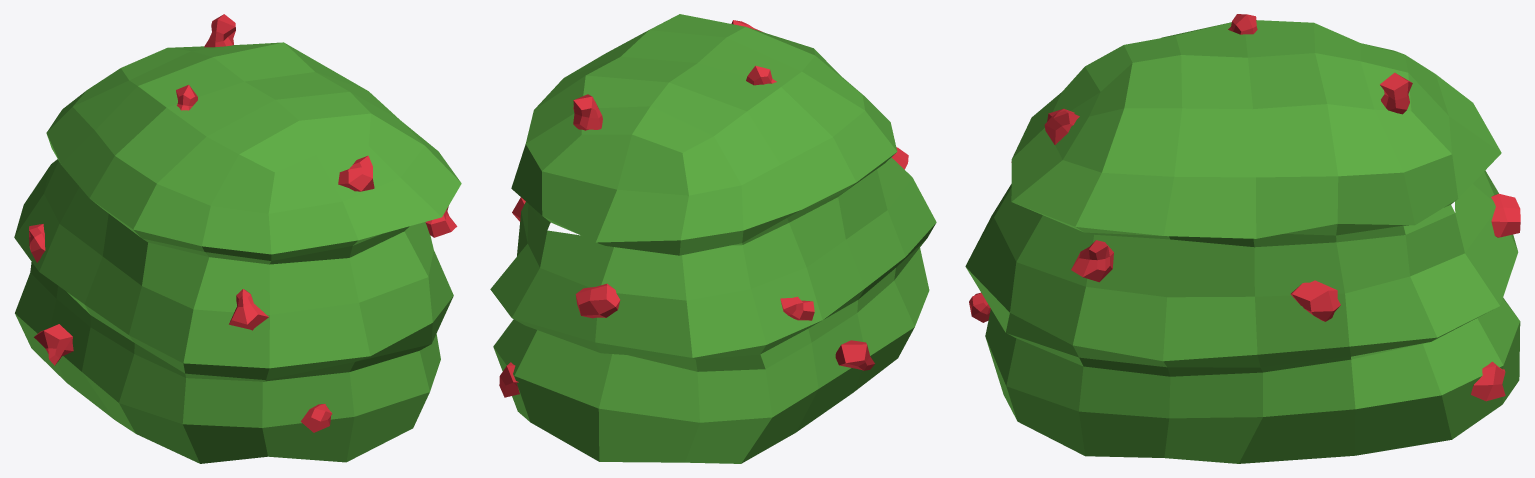
File: berry-bush.glb
3 views of the same model, side by side, from view 1: azimuth 30°, elevation 25°; view 2: azimuth 150°, elevation 25°; view 3: azimuth 270°, elevation 25° (orthographic). The views are drawn at different scales.
Parts seen in each view (by area): view 1: BushBerries_1; view 2: BushBerries_1; view 3: BushBerries_1.
Part boxes in pixels (x1=…): BushBerries_1: x1=14, y1=14, x2=461, y2=463; BushBerries_1: x1=490, y1=14, x2=936, y2=463; BushBerries_1: x1=965, y1=14, x2=1520, y2=463.
Bounding box in the file's own units: 1.95 × 1.79 × 2.41.
